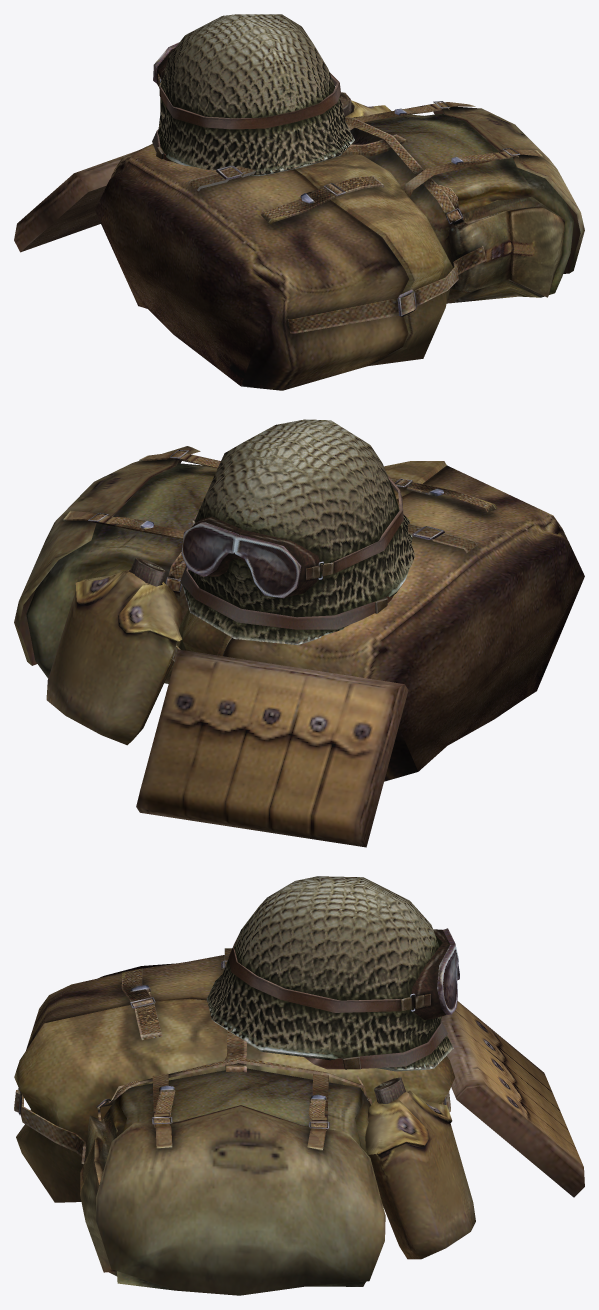
The model's file is Accessories.FBX.
3 renders of one model, top to bottom at view 1: azimuth 30°, elevation 25°; view 2: azimuth 150°, elevation 25°; view 3: azimuth 270°, elevation 25°, orthographic. The views are drawn at different scales.
Visible parts, largest first — view 1: WWII_American_Soldier_backpack, WWII_American_Soldier_body_helmet, WWII_American_Soldier_magazines, WWII_American_Soldier_flask; view 2: WWII_American_Soldier_backpack, WWII_American_Soldier_body_helmet, WWII_American_Soldier_magazines, WWII_American_Soldier_flask; view 3: WWII_American_Soldier_backpack, WWII_American_Soldier_body_helmet, WWII_American_Soldier_flask, WWII_American_Soldier_magazines.
Boxes of the visible parts, <box> form: WWII_American_Soldier_backpack: <box>95,101,584,390</box>; WWII_American_Soldier_body_helmet: <box>152,14,354,175</box>; WWII_American_Soldier_magazines: <box>14,150,137,252</box>; WWII_American_Soldier_flask: <box>339,92,391,117</box>; WWII_American_Soldier_backpack: <box>14,446,584,781</box>; WWII_American_Soldier_body_helmet: <box>180,419,414,644</box>; WWII_American_Soldier_magazines: <box>136,649,408,847</box>; WWII_American_Soldier_flask: <box>46,558,182,745</box>; WWII_American_Soldier_backpack: <box>14,948,454,1295</box>; WWII_American_Soldier_body_helmet: <box>207,876,459,1071</box>; WWII_American_Soldier_flask: <box>365,1077,475,1259</box>; WWII_American_Soldier_magazines: <box>441,1001,584,1197</box>.
Size of the model in its own units: 498 by 567 by 339.
Materials: 1 (1 with a texture image).
